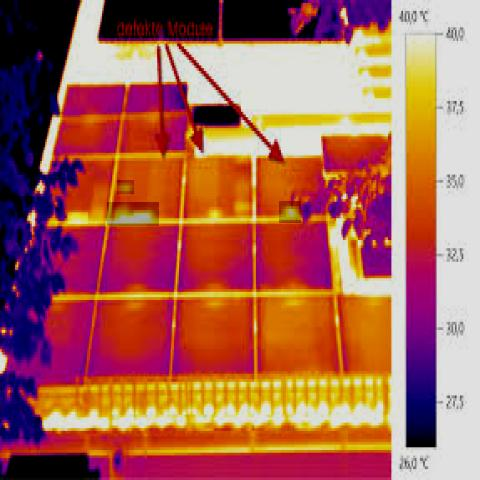fault: (107, 202, 159, 226), (279, 202, 301, 223), (68, 212, 88, 224), (117, 180, 134, 194), (209, 207, 222, 218)
